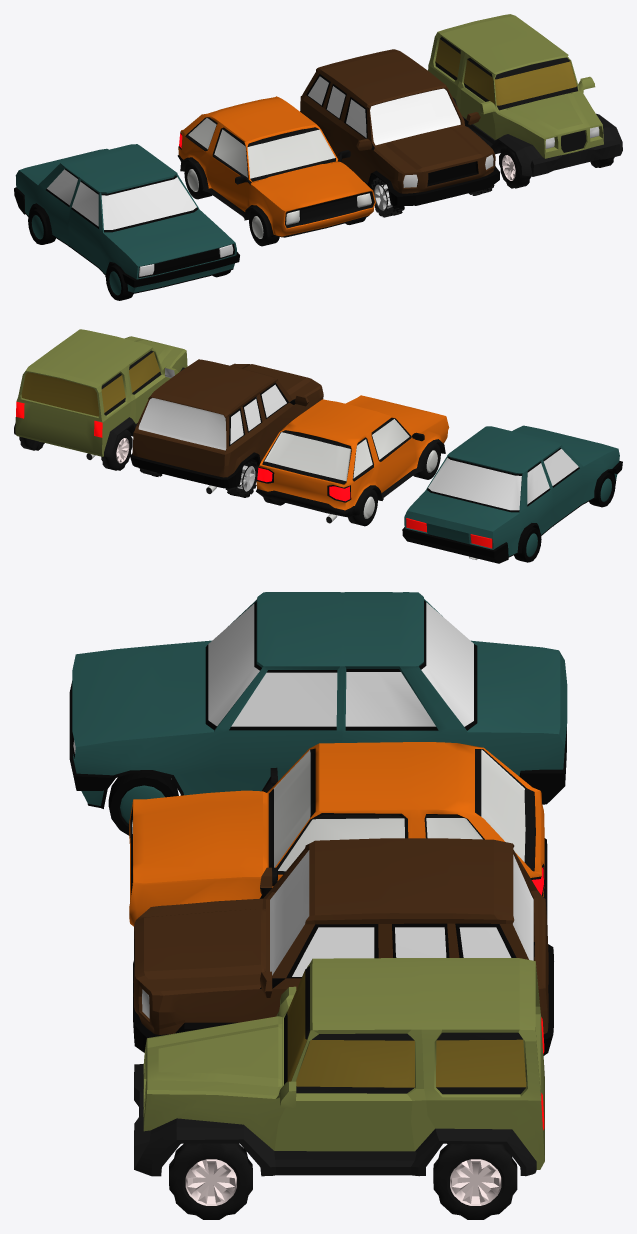
The model's file is cars_modells.fbx.
3 views of the same model, one above another, from view 1: azimuth 30°, elevation 25°; view 2: azimuth 150°, elevation 25°; view 3: azimuth 270°, elevation 25° (orthographic). The views are drawn at different scales.
Parts seen in each view (by area): view 1: Cube.014, Cube.022, Cube.008, Cube.020, Cube.018, Cube.021, Cube.017, Cube.029, Cube.028, Cube.006, Cube.007; view 2: Cube.014, Cube.008, Cube.022, Cube.020, Cube.018, Cube.021, Cube.019, Cube.029, Cube.007, Cube.028, Cube.006; view 3: Cube.022, Cube.014, Cube.020, Cube.008, Cube.021, Cube.018, Cube.031.
Part boxes in pixels (x1,y1,x2,y2): Cube.014: (14, 144, 239, 293); Cube.022: (428, 14, 622, 176); Cube.008: (177, 96, 375, 237); Cube.020: (300, 49, 499, 206); Cube.018: (308, 76, 460, 145); Cube.021: (499, 146, 614, 188); Cube.017: (370, 177, 404, 217); Cube.029: (28, 208, 55, 244); Cube.028: (105, 265, 133, 300); Cube.006: (249, 208, 279, 246); Cube.007: (184, 161, 212, 199); Cube.014: (402, 425, 622, 563); Cube.008: (256, 395, 449, 517); Cube.022: (14, 329, 187, 456); Cube.020: (130, 359, 323, 488); Cube.018: (138, 384, 286, 450); Cube.021: (19, 430, 132, 470); Cube.019: (225, 459, 258, 497); Cube.029: (514, 527, 541, 562); Cube.007: (348, 489, 377, 526); Cube.028: (589, 472, 615, 507); Cube.006: (413, 443, 440, 479); Cube.022: (134, 958, 544, 1176); Cube.014: (69, 592, 567, 808); Cube.020: (133, 838, 553, 1055); Cube.008: (129, 742, 547, 926); Cube.021: (169, 1143, 517, 1219); Cube.018: (270, 850, 533, 976); Cube.031: (108, 773, 178, 835).
Bounding box in the file's own units: 2804 × 490 × 1199.
